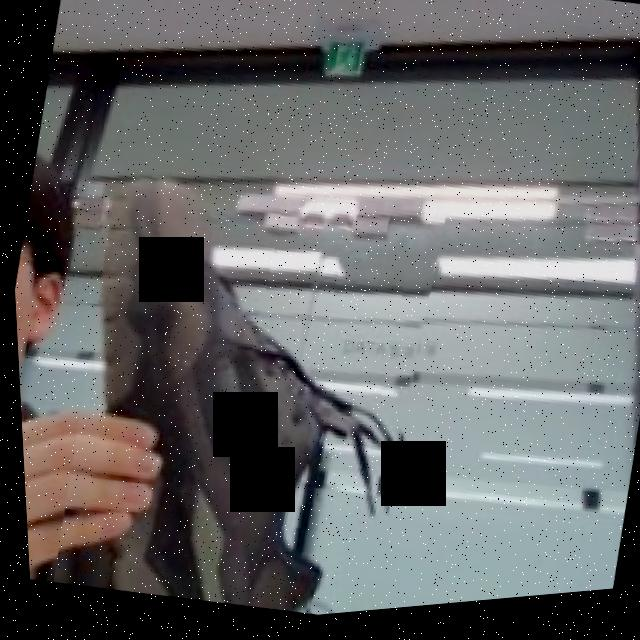shoe: (30, 150, 460, 638)
